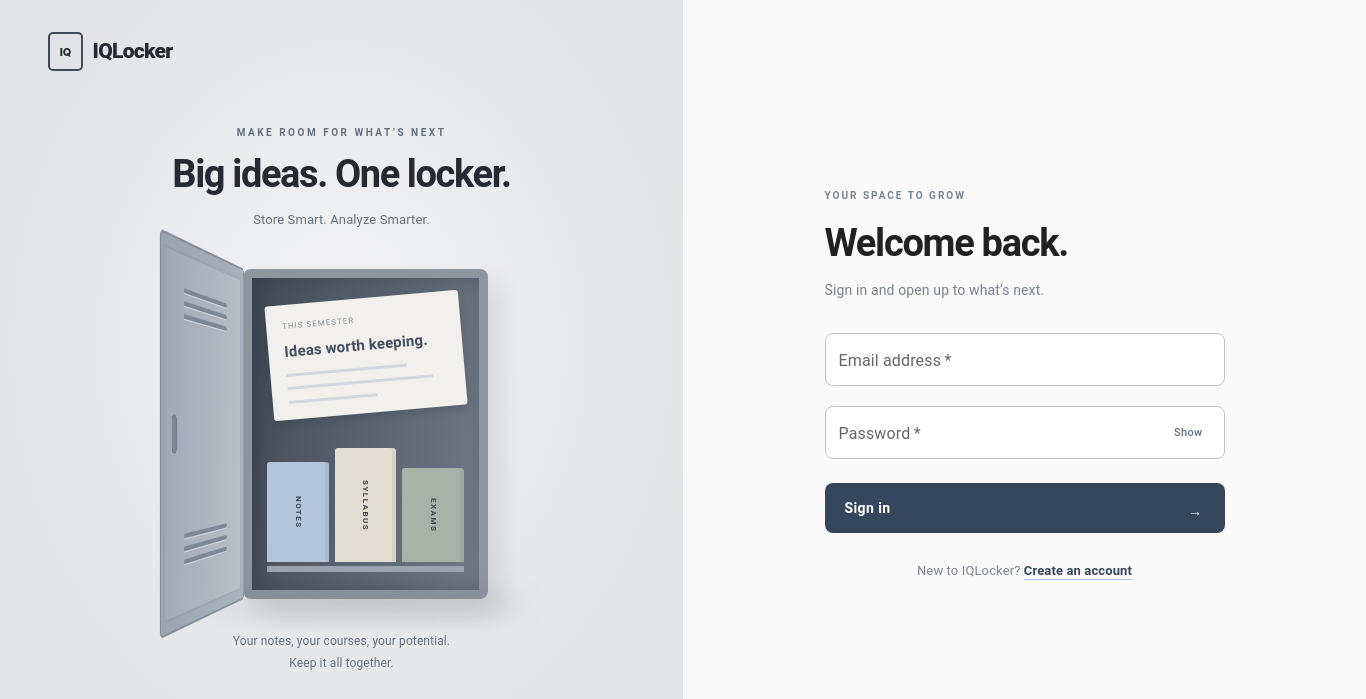
Scenario: signs in and opens the name-based homepage with the returned token
This screenshot has width=1366, height=699.
In the field labelled "Email address *": (1024, 359) [824,333,1224,386], type "student@example.com"
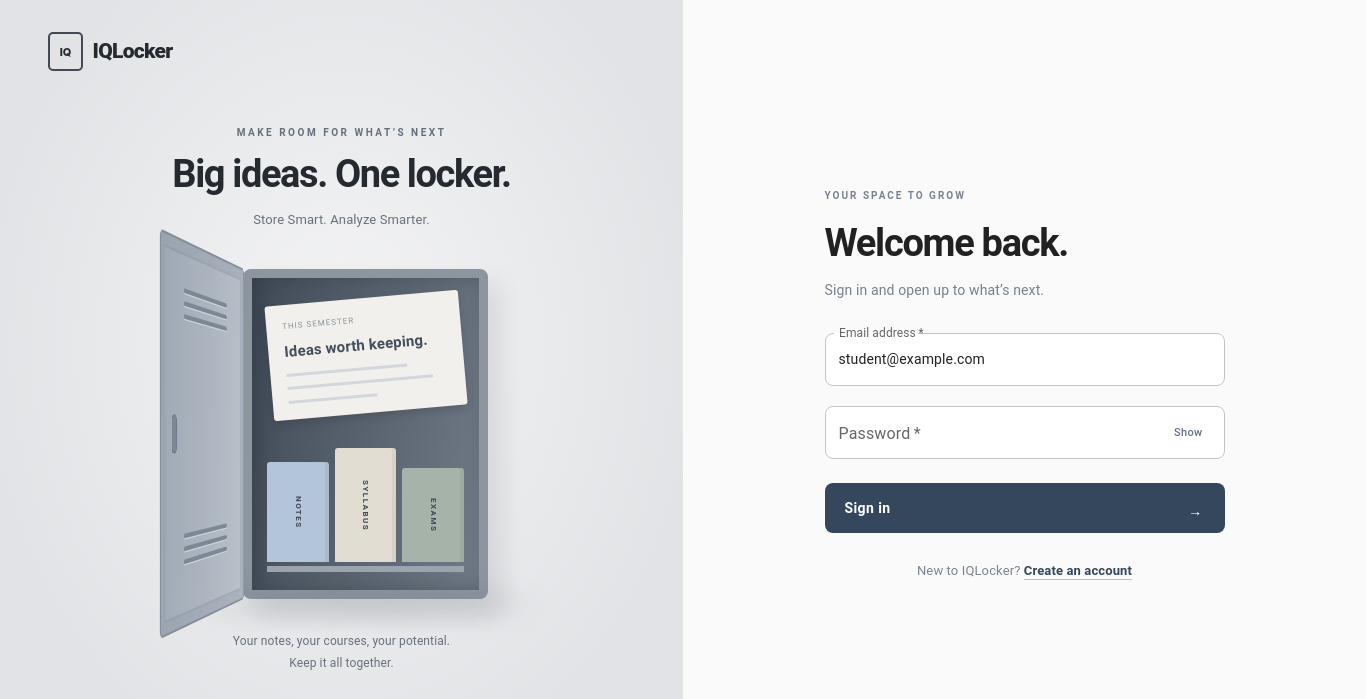
In the password field labelled "Password": (991, 432) [824,406,1158,459], type "test-password"
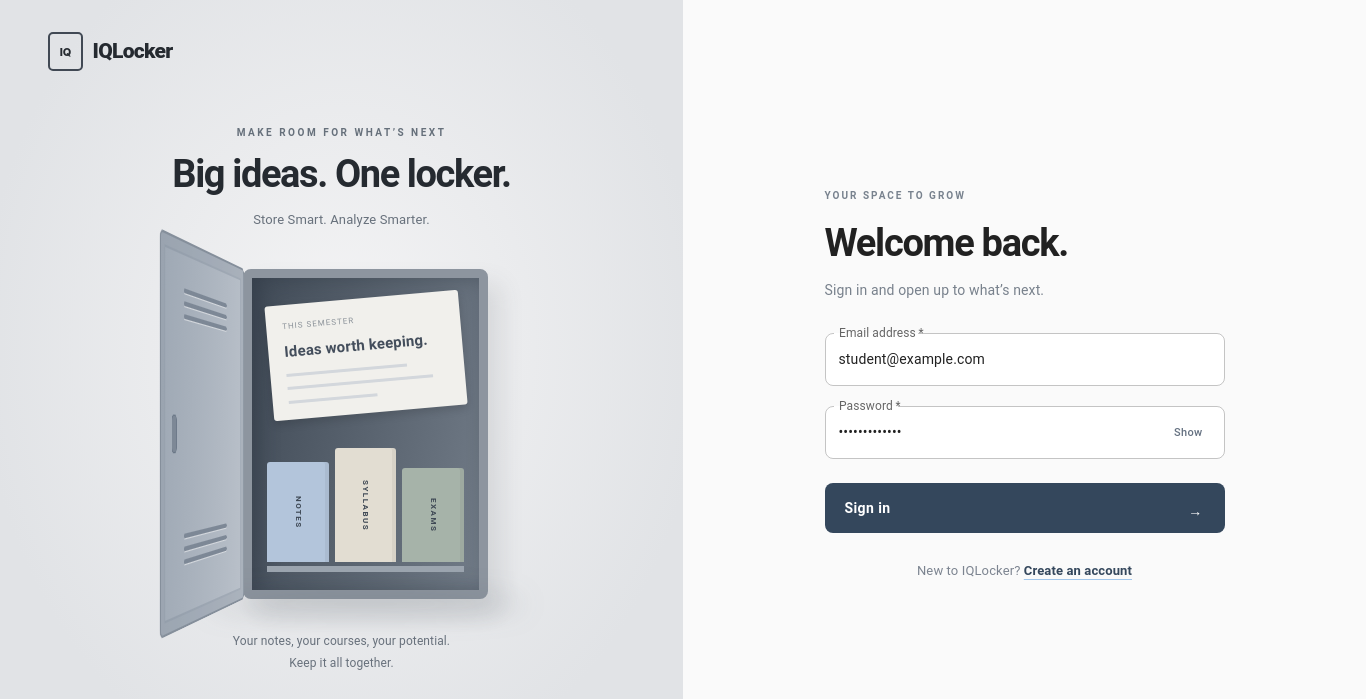
Click the button "Sign in →": (868, 508) [824,483,1224,533]
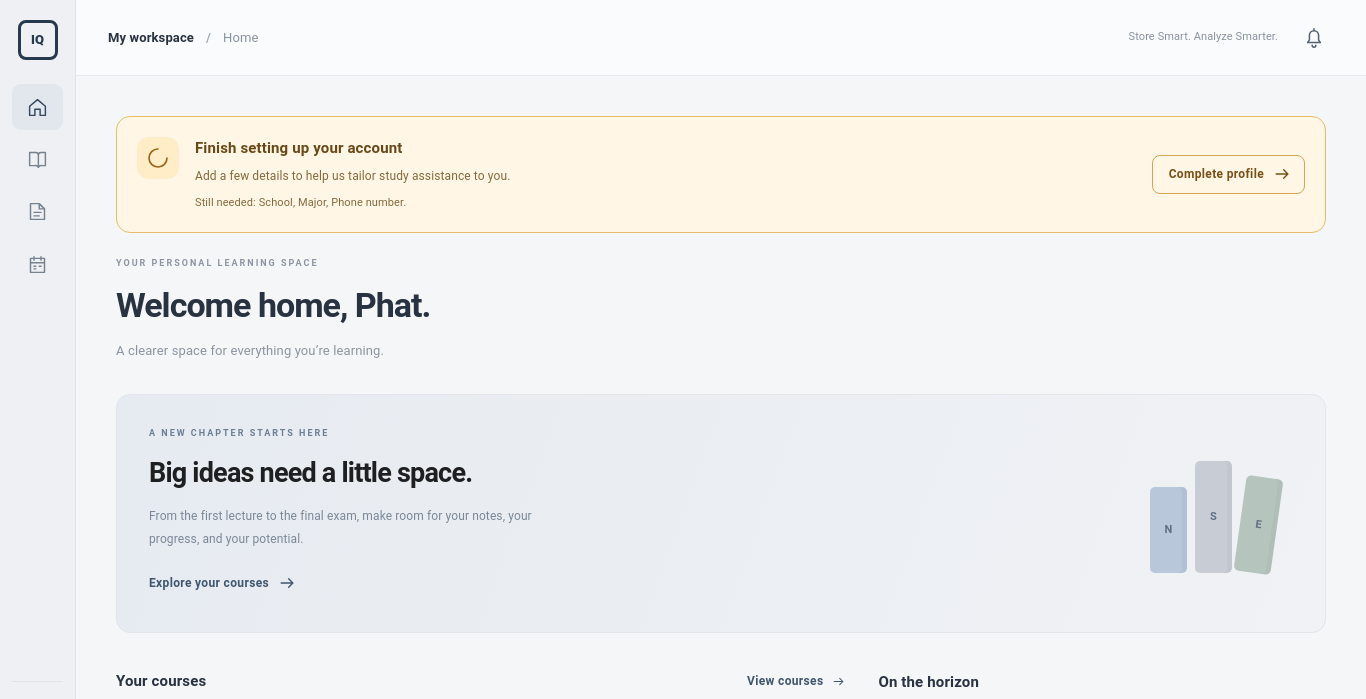
Expected: the heading "Welcome home, Phat." is shown, [116,285,430,325]
